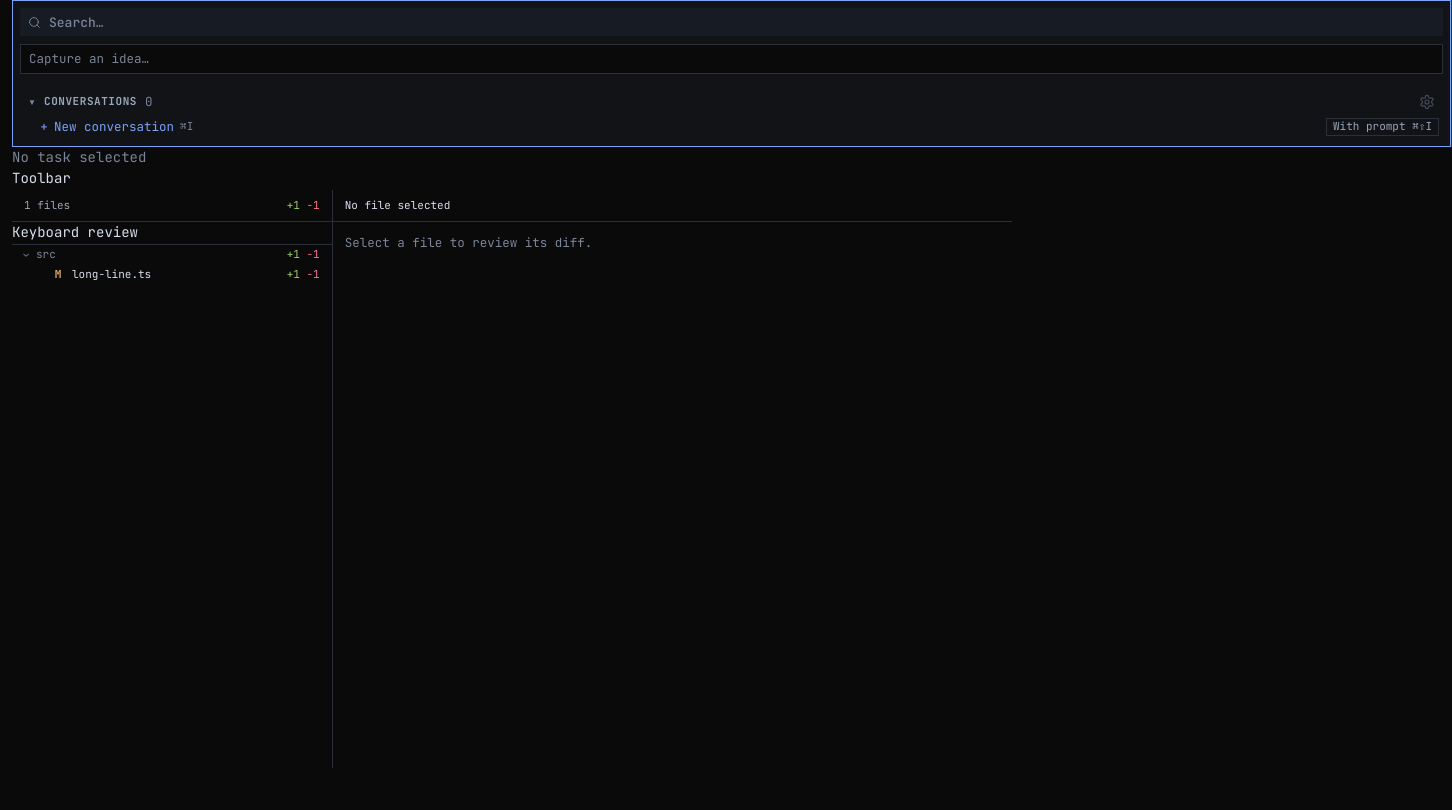
Scenario: overhaul acceptance - Changes diff keyboard reading › [overhaul-347] keeps the named region stable when loading the diff fails
Click the button with aria-label "src/long-line.ts" at [112, 274], box top-left (12, 265), bottom-right (332, 285)
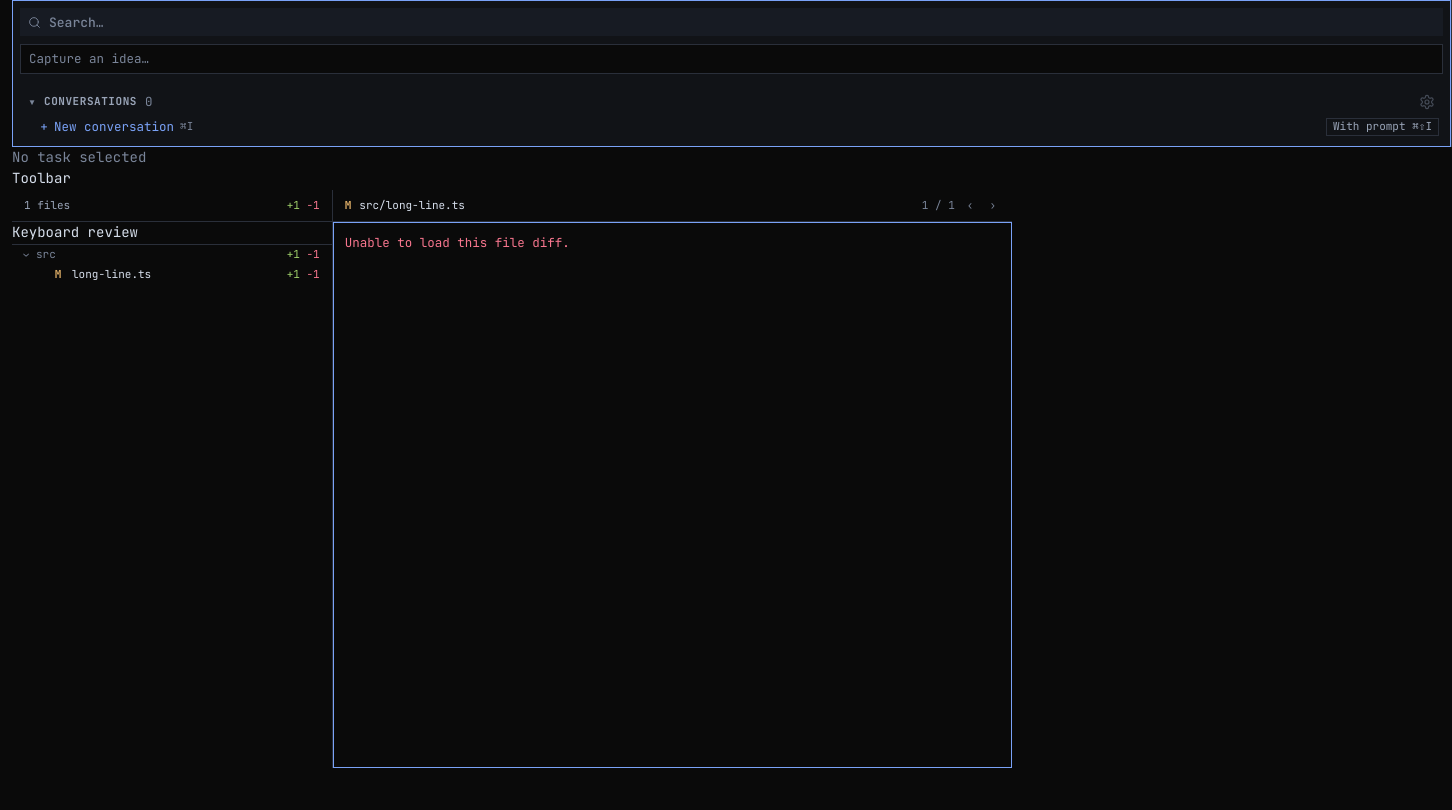
Expected: the message reads "Unable to load this file diff.", top-left (345, 234), bottom-right (570, 251)
